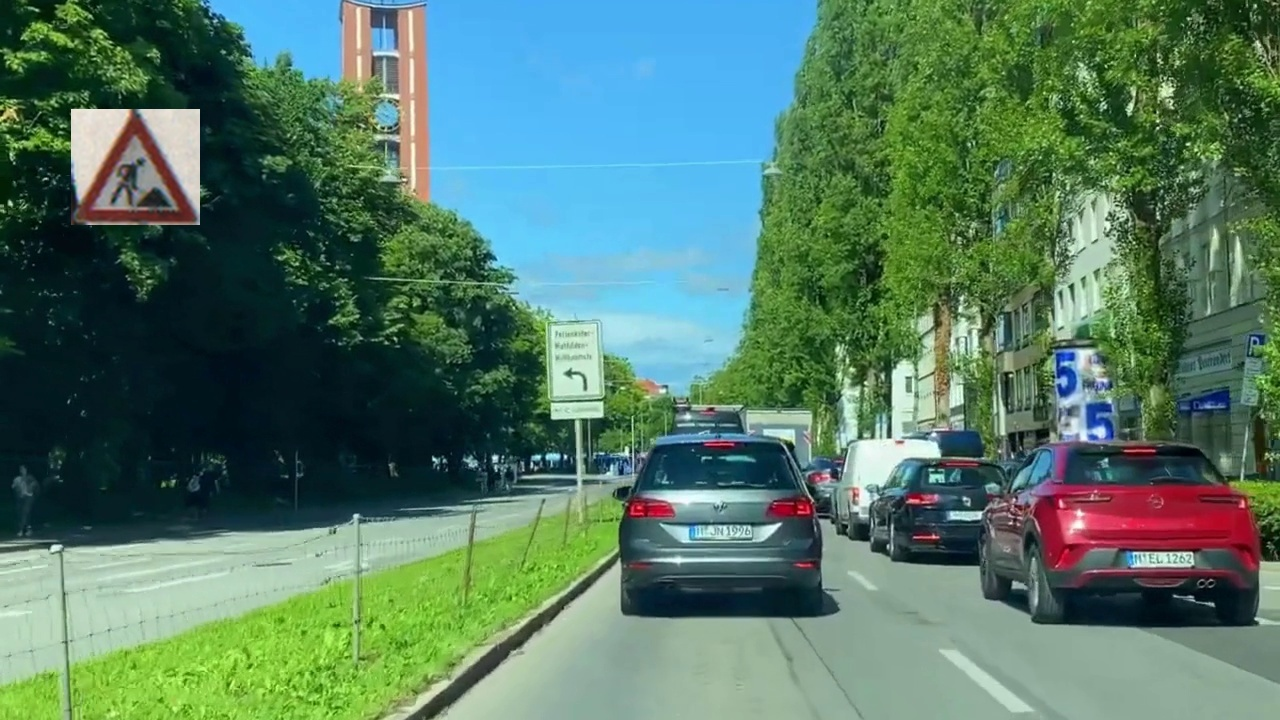Road work: (71, 109, 200, 225)
